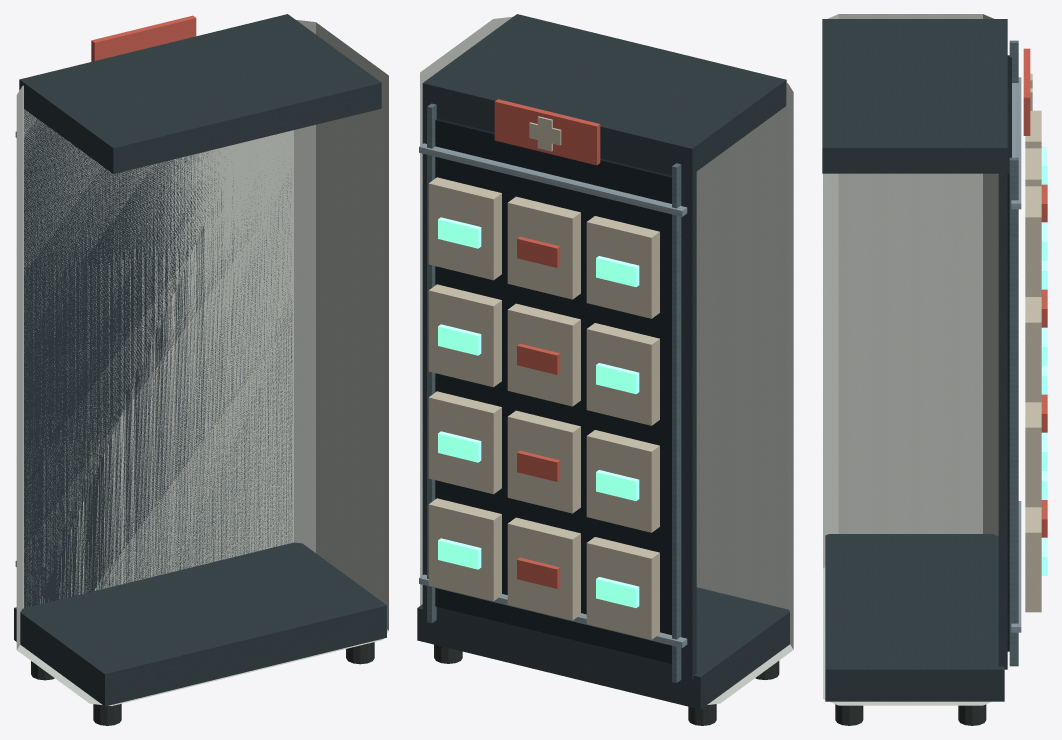
File: medical_cabinet.glb
The picture shows the model from 3 angles, left to right: view 1: azimuth 30°, elevation 25°; view 2: azimuth 150°, elevation 25°; view 3: azimuth 270°, elevation 25°; orthographic projection.
Parts seen in each view (by area): view 1: static__shell, front_frame__graphite, static__graphite, First_Aid_Header__red, feet__rubber; view 2: Medical_Kit__cream, static__shell, static__graphite, interior__carbon, front_frame__graphite, Medical_Labels__mint, static__trim, Medical_Labels__red, First_Aid_Header__red, static__alloy, feet__rubber, First_Aid_Cross__cream; view 3: static__shell, static__graphite, Medical_Kit__cream, static__trim, front_frame__graphite, interior__carbon, Medical_Labels__mint, static__alloy, feet__rubber, Medical_Labels__red, First_Aid_Header__red.
Part boxes in pixels (box(x1,y1,x2,y2)): static__shell: box(16, 20, 388, 705); front_frame__graphite: box(24, 109, 292, 608); static__graphite: box(14, 14, 386, 706); First_Aid_Header__red: box(91, 15, 196, 61); feet__rubber: box(31, 642, 374, 725); Medical_Kit__cream: box(428, 177, 659, 639); static__shell: box(420, 16, 793, 704); static__graphite: box(417, 14, 789, 709); interior__carbon: box(435, 118, 671, 663); front_frame__graphite: box(422, 102, 696, 679); Medical_Labels__mint: box(438, 217, 639, 607); static__trim: box(427, 103, 681, 682); Medical_Labels__red: box(517, 236, 560, 588); First_Aid_Header__red: box(494, 99, 600, 165); static__alloy: box(419, 143, 687, 647); feet__rubber: box(434, 644, 779, 725); First_Aid_Cross__cream: box(529, 116, 561, 151); static__shell: box(823, 14, 998, 705); static__graphite: box(822, 19, 1007, 701); Medical_Kit__cream: box(1025, 110, 1041, 612); static__trim: box(1009, 40, 1018, 666); front_frame__graphite: box(998, 167, 1007, 669); interior__carbon: box(1007, 55, 1011, 651); Medical_Labels__mint: box(1041, 146, 1047, 575); static__alloy: box(1011, 77, 1021, 632); feet__rubber: box(835, 704, 986, 725); Medical_Labels__red: box(1041, 184, 1047, 537); First_Aid_Header__red: box(1023, 48, 1030, 135).
Size of the model in its own units: 0.97 by 1.84 by 0.6415.
9 materials, 9 textured.
